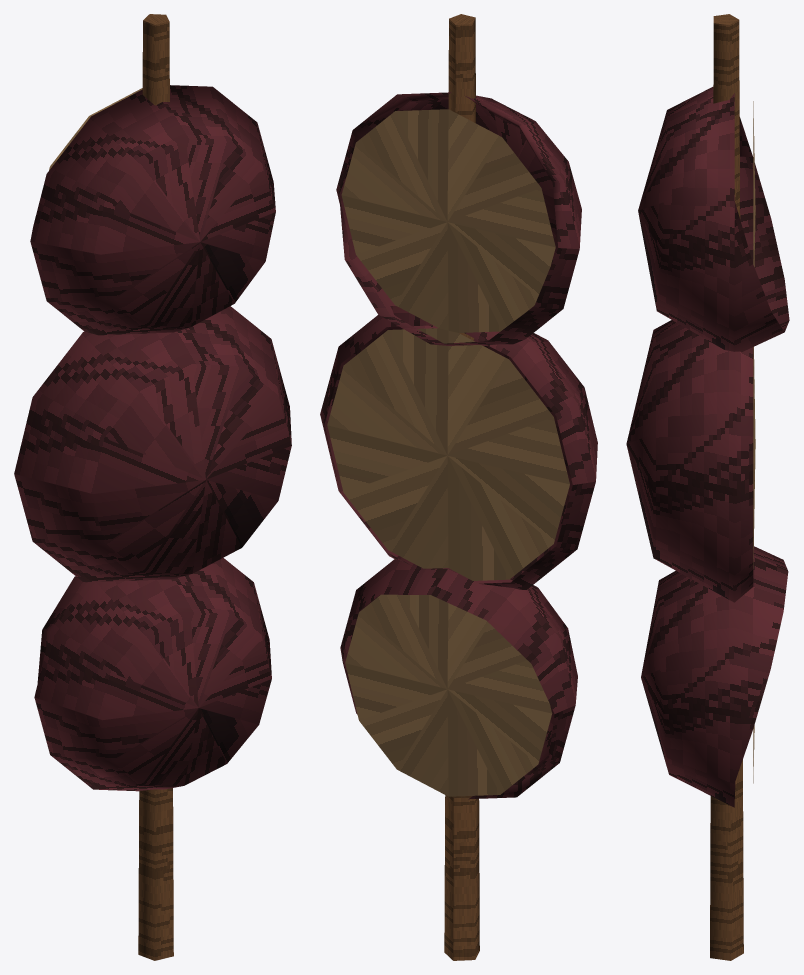
File: item_grilled_mushroom.glb
3 renders of one model, left to right at view 1: azimuth 30°, elevation 25°; view 2: azimuth 150°, elevation 25°; view 3: azimuth 270°, elevation 25°, orthographic.
Parts seen in each view (by area): view 1: item_grilled_mushroom; view 2: item_grilled_mushroom; view 3: item_grilled_mushroom.
Boxes of the visible parts, x1,y1,x2,y2 form: item_grilled_mushroom: (14, 14, 291, 960); item_grilled_mushroom: (320, 14, 597, 960); item_grilled_mushroom: (626, 14, 789, 960).
Bounding box in the file's own units: 0.068 × 0.22 × 0.0348.
Materials: 3 (3 with a texture image).
